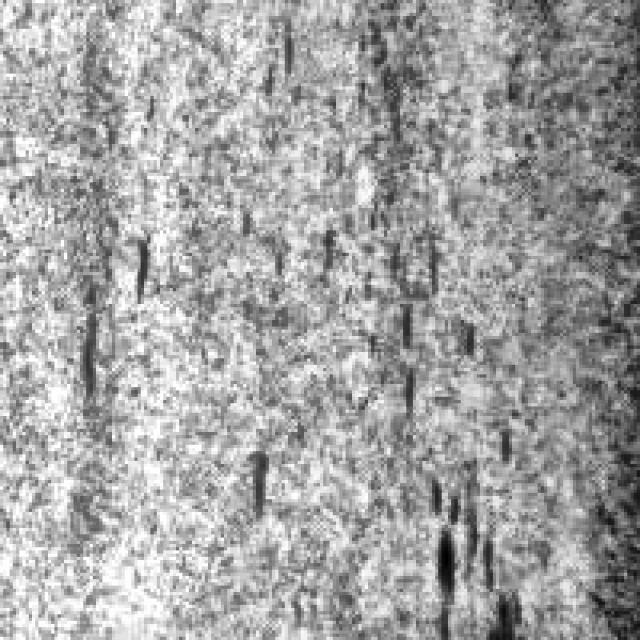Patches: (416, 464, 525, 634)
